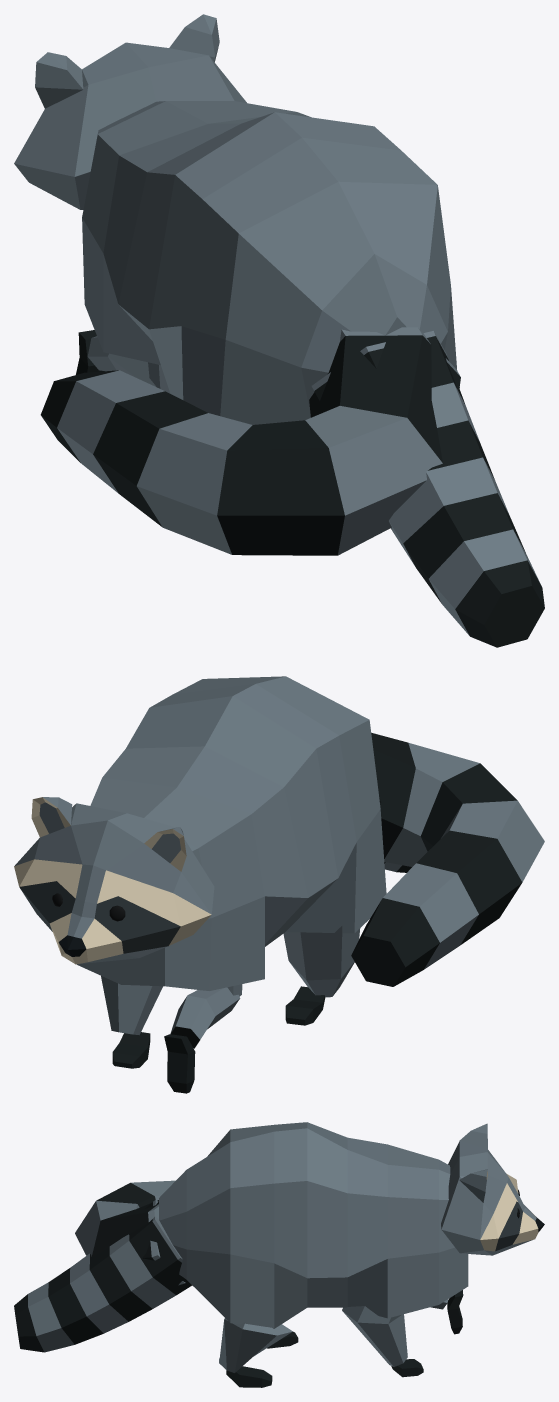
The model's file is raccoon.glb.
3 views of the same model, one above another, from view 1: azimuth 30°, elevation 25°; view 2: azimuth 150°, elevation 25°; view 3: azimuth 270°, elevation 25° (orthographic). The views are drawn at different scales.
Visible parts, largest first — view 1: Body, TailCurled, Tail, HeadMesh, LegFL, EarL, EarR; view 2: Body, TailCurled, HeadMesh, LegBL, LegFL, LegFR, EarR, EarL; view 3: Body, Tail, HeadMesh, TailCurled, LegBR, LegFR, LegFL, EarR, EarL.
Part boxes in pixels (bbox=[...]): Body: bbox=[82, 101, 457, 424]; TailCurled: bbox=[40, 327, 460, 555]; Tail: bbox=[311, 331, 544, 647]; HeadMesh: bbox=[14, 42, 246, 209]; LegFL: bbox=[76, 330, 170, 393]; EarL: bbox=[35, 52, 83, 108]; EarR: bbox=[169, 14, 219, 62]; Body: bbox=[77, 676, 386, 990]; TailCurled: bbox=[351, 733, 544, 986]; HeadMesh: bbox=[14, 803, 214, 964]; LegBL: bbox=[283, 925, 360, 1025]; LegFL: bbox=[164, 984, 242, 1093]; LegFR: bbox=[101, 976, 162, 1068]; EarR: bbox=[31, 797, 72, 837]; EarL: bbox=[144, 827, 186, 871]; Body: bbox=[159, 1122, 468, 1328]; Tail: bbox=[14, 1199, 191, 1352]; HeadMesh: bbox=[441, 1141, 544, 1255]; TailCurled: bbox=[75, 1180, 185, 1285]; LegBR: bbox=[219, 1318, 292, 1387]; LegFR: bbox=[342, 1306, 423, 1377]; LegFL: bbox=[430, 1290, 463, 1334]; EarR: bbox=[459, 1169, 487, 1202]; EarL: bbox=[459, 1123, 487, 1148].
Bounding box in the file's own units: 0.7128 × 0.7 × 1.45.
